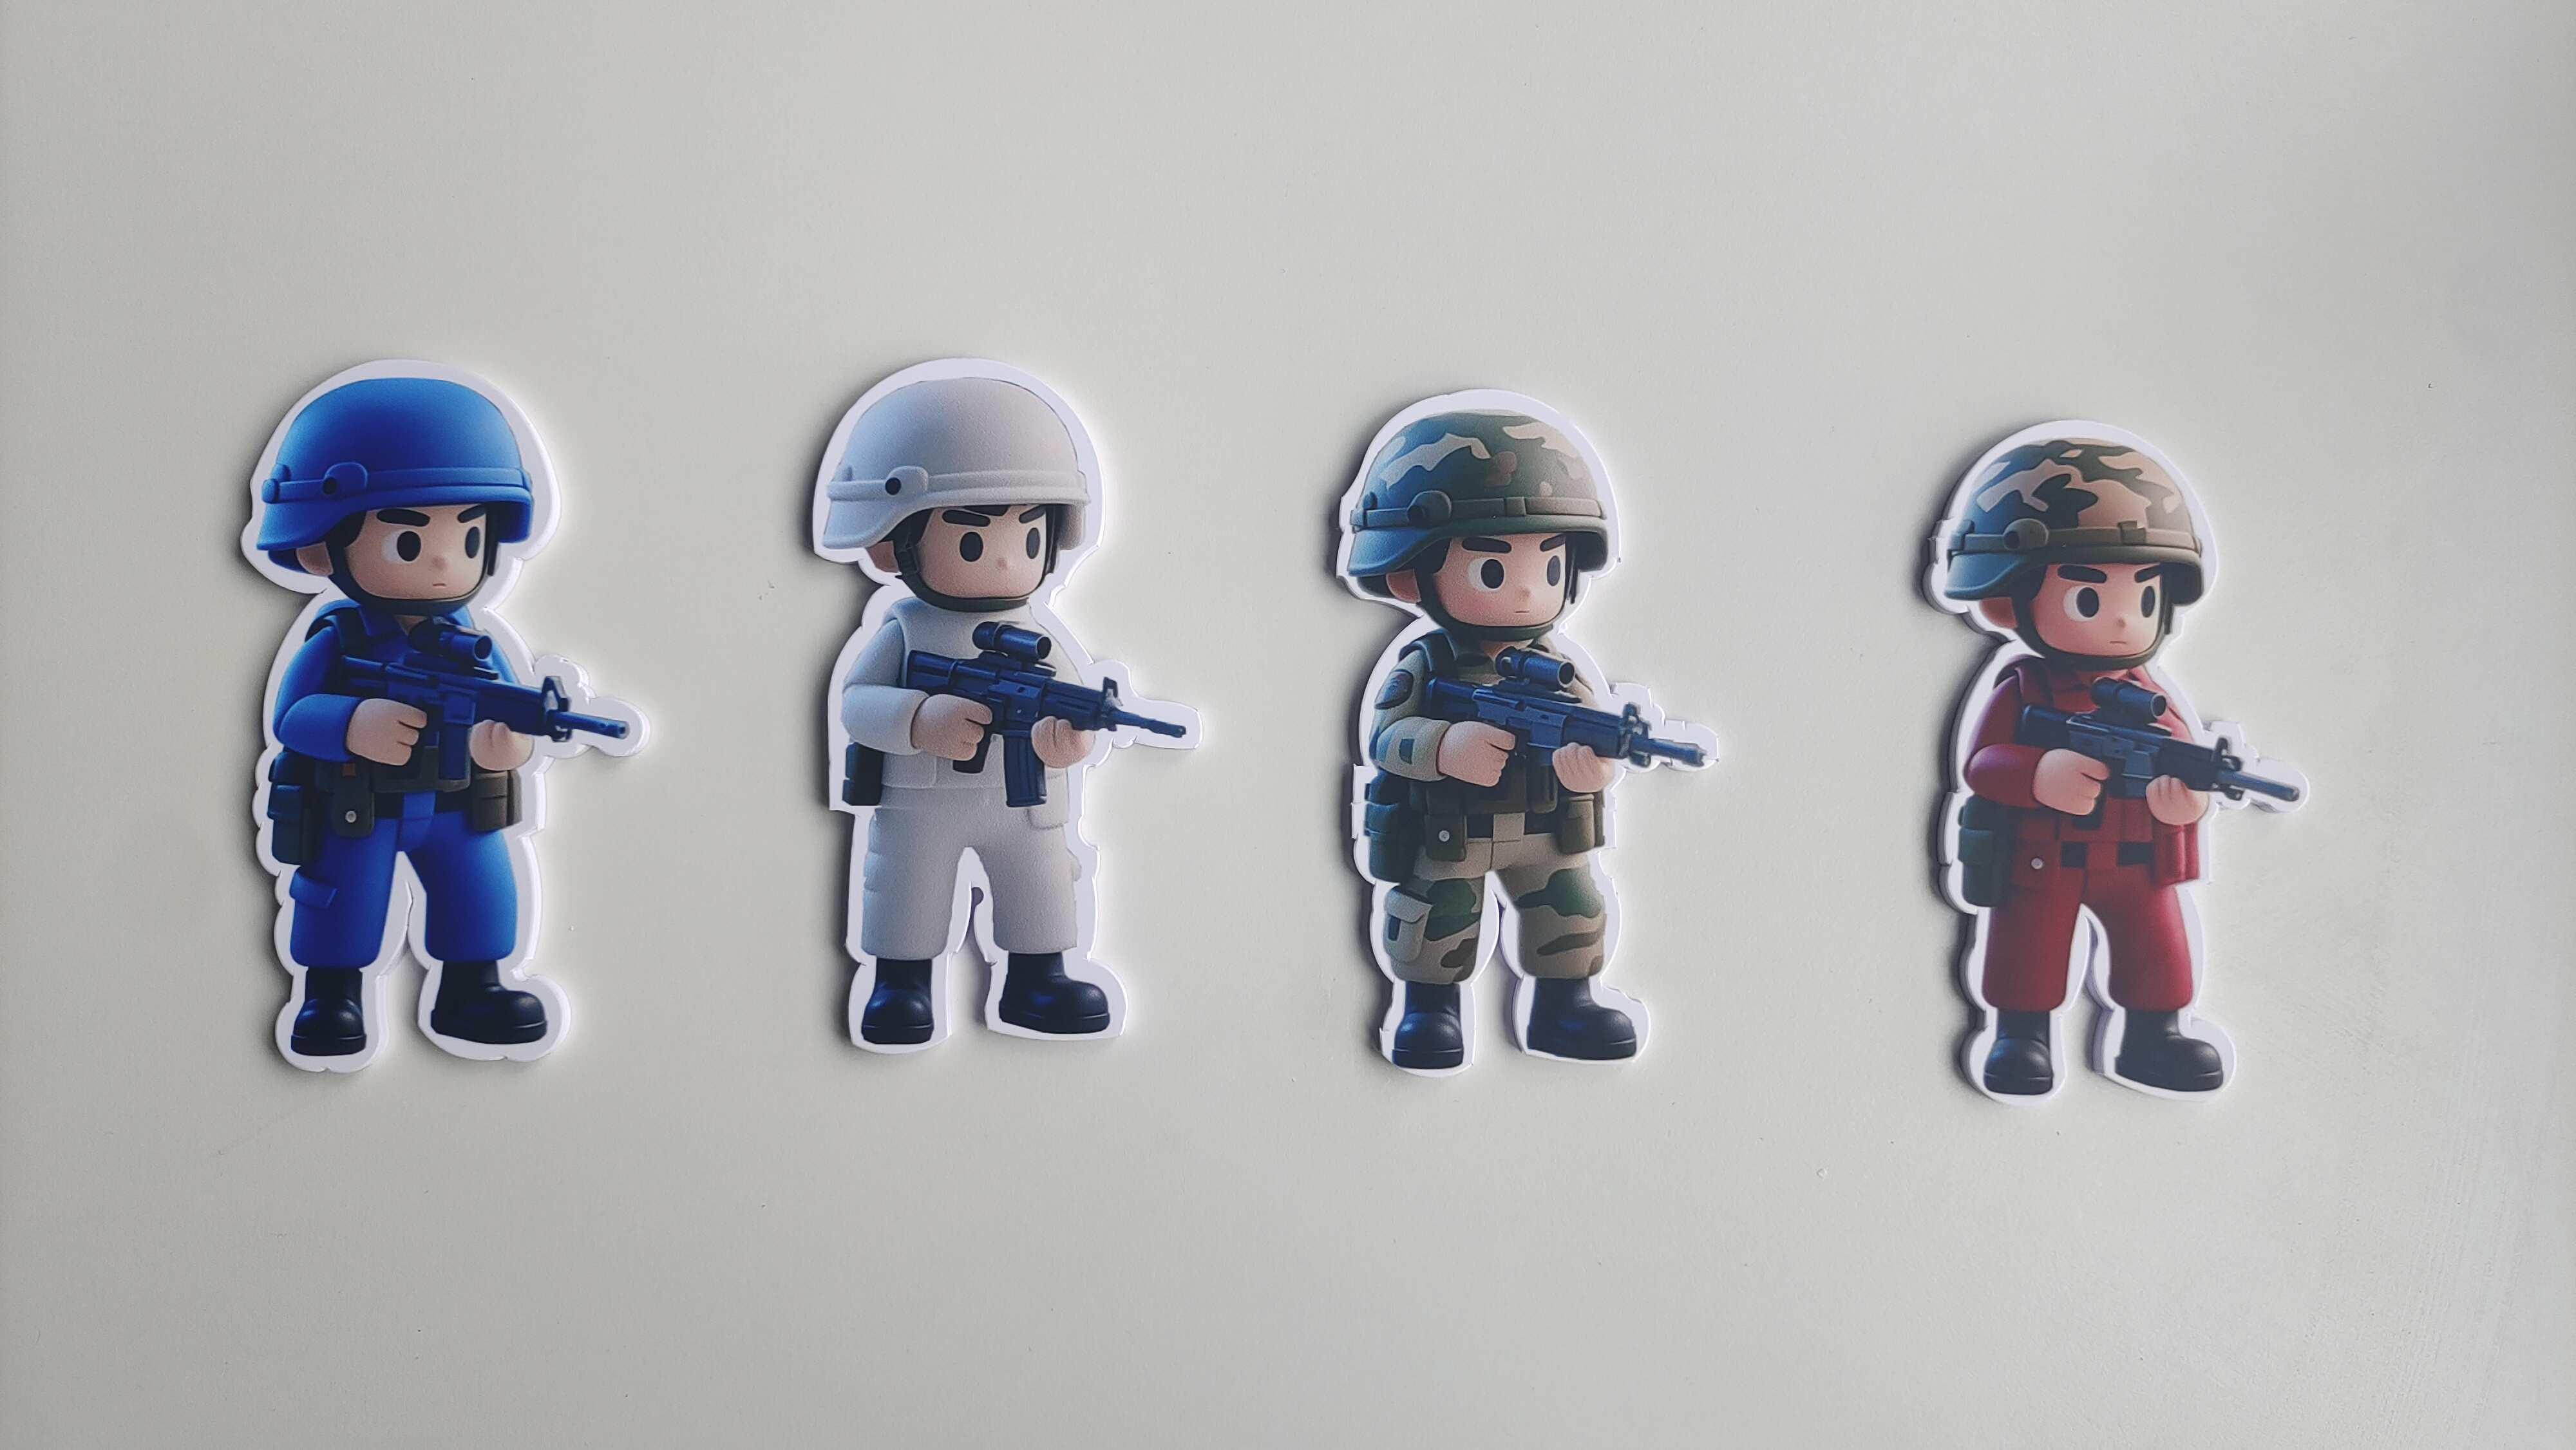enemy1: (1918, 667, 2270, 1110)
enemy2: (239, 612, 607, 1080)
friend: (1338, 624, 1670, 1073)
hostage: (791, 608, 1191, 1061)
